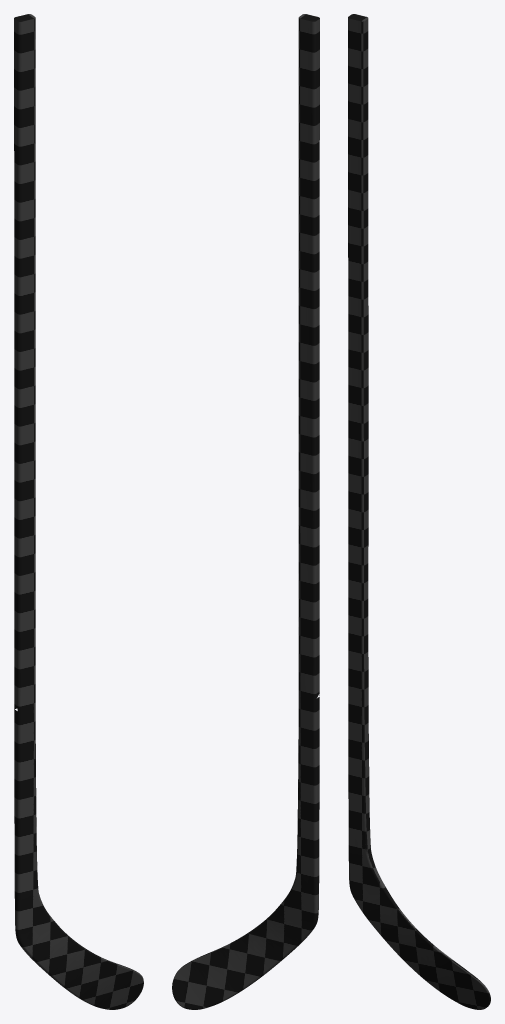
3 views of the same model, side by side, from view 1: azimuth 30°, elevation 25°; view 2: azimuth 150°, elevation 25°; view 3: azimuth 330°, elevation 25° (orthographic). The views are drawn at different scales.
Parts seen in each view (by area): view 1: geometry_0; view 2: geometry_0; view 3: geometry_0.
Part boxes in pixels (left/top/right/bottom): geometry_0: left=14, top=14, right=143, bottom=1009; geometry_0: left=172, top=14, right=319, bottom=1009; geometry_0: left=348, top=14, right=490, bottom=1009.
Bounding box in the file's own units: 232 × 1650 × 49.99.
1 material, 1 textured.
